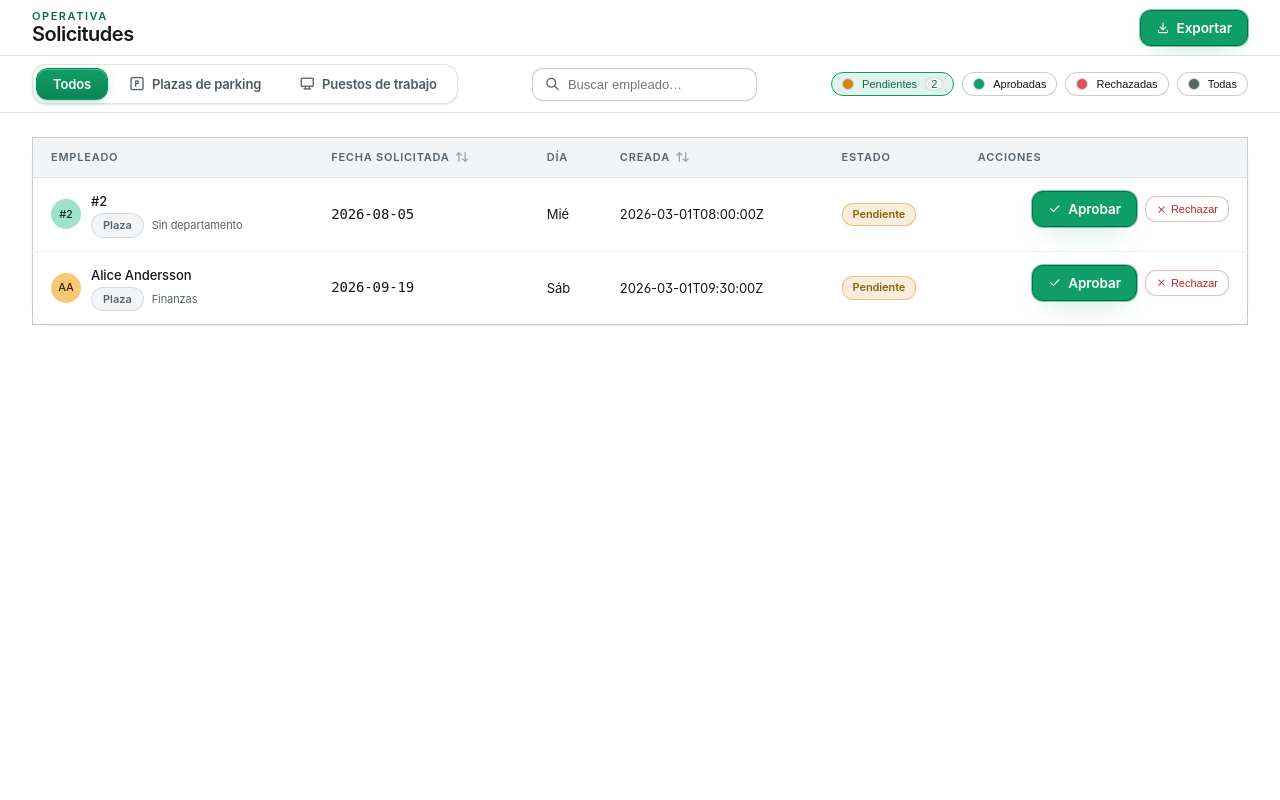
PendingRequestsPage (ADMIN) › should_return_409_when_approve_space_not_available
Click the button "Aprobar" in the row of "Sin departamento" at (1084,209), box [1032, 191, 1137, 227]
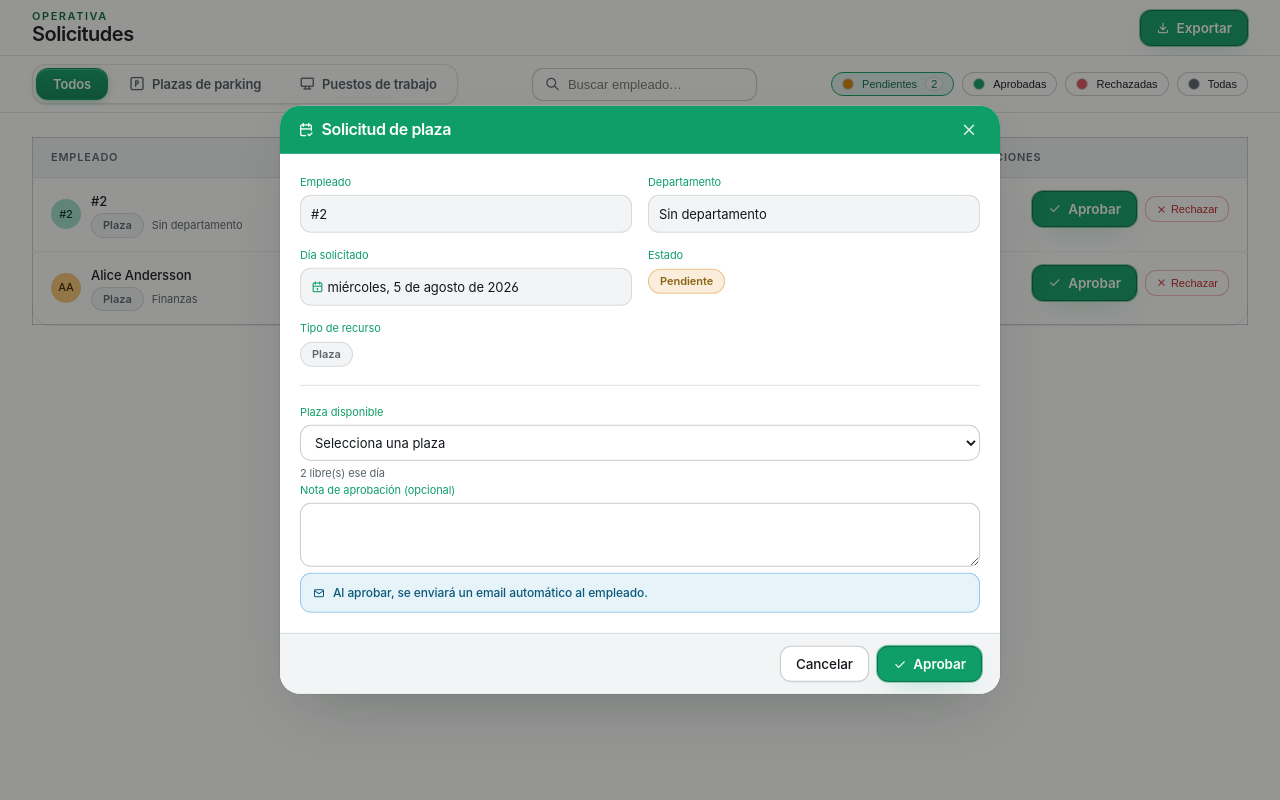
Check: the dialog is shown, box [280, 106, 1000, 694]
Select "P-01" in the dropdown labelled "Plaza disponible" at (640,443), box [300, 425, 980, 461]
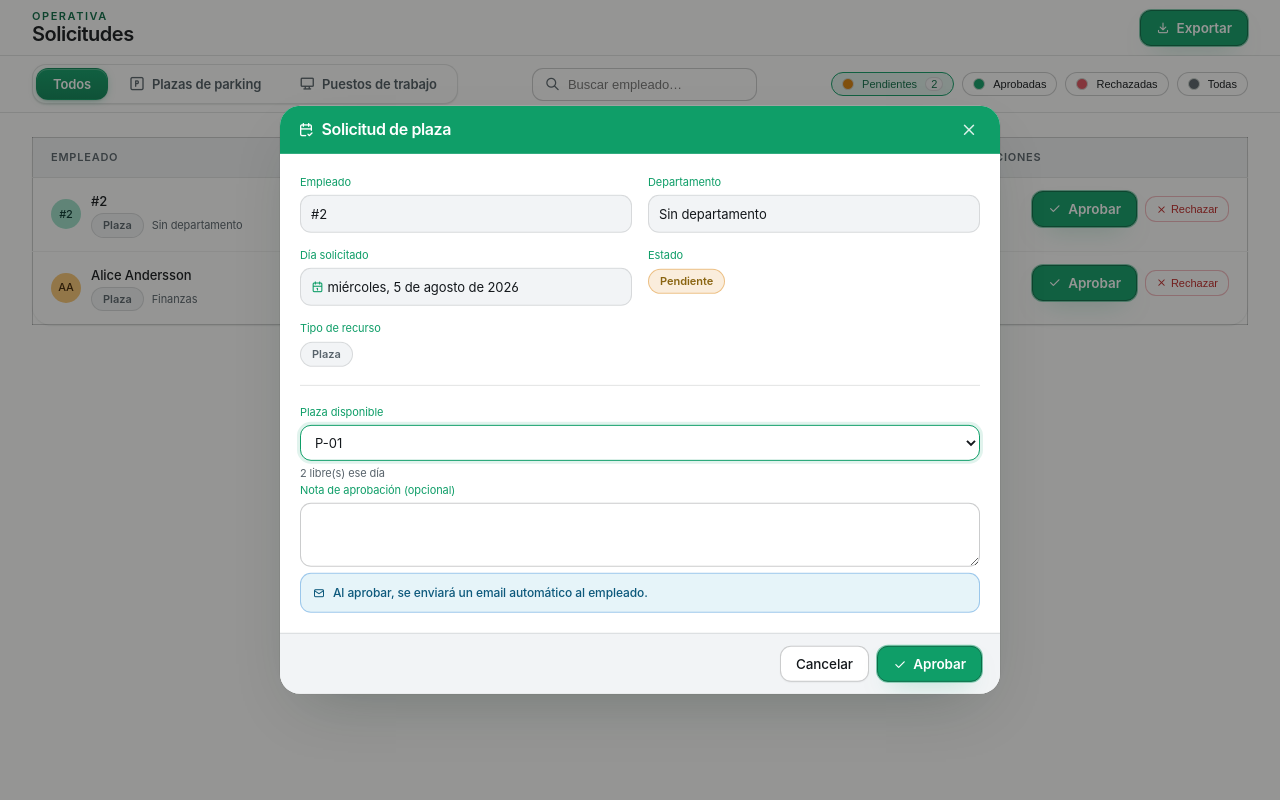
Click the button "Aprobar" at (929,664), box [877, 646, 982, 682]
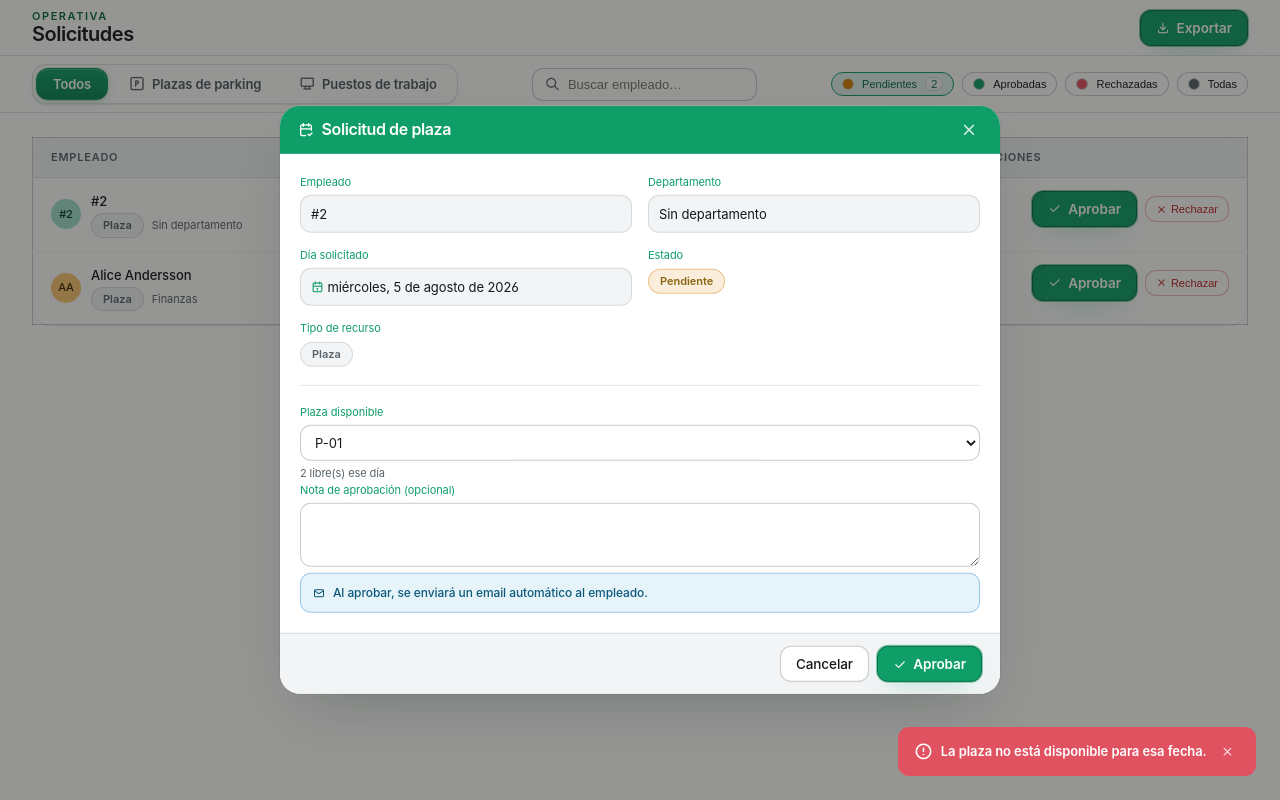
Check: the text "La plaza no está disponible para esa fecha." is shown, box [941, 741, 1207, 761]
